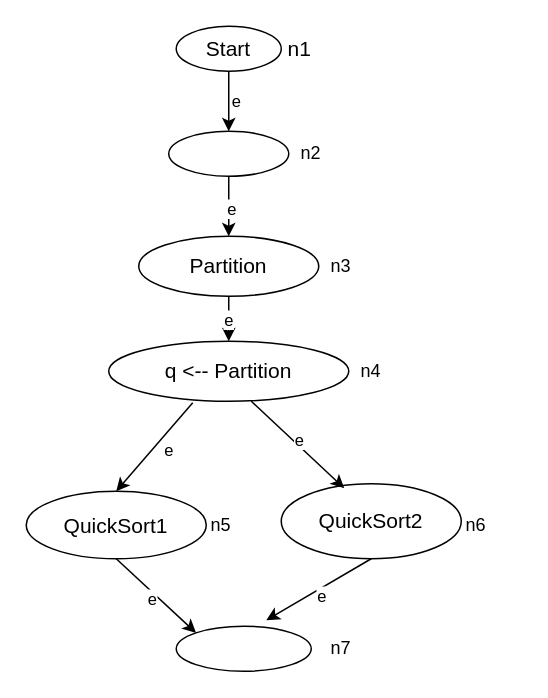
This 548x698 diagram has some shape labels left out. Here are the shapes that lost their labels. From the top down, the box of each, then its label:
(167, 130, 289, 176): p < r
(175, 625, 311, 671): End
